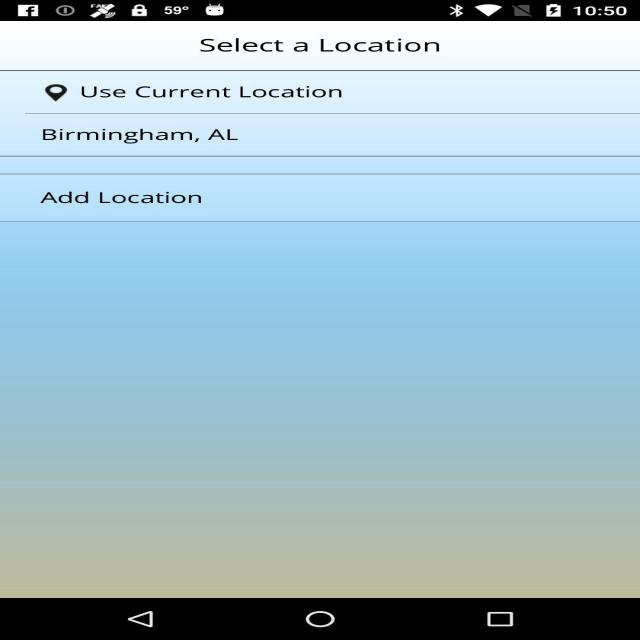button: (27, 180, 282, 216)
icon: (32, 77, 73, 111)
image: (202, 33, 484, 64), (50, 115, 274, 151), (86, 78, 360, 105)
